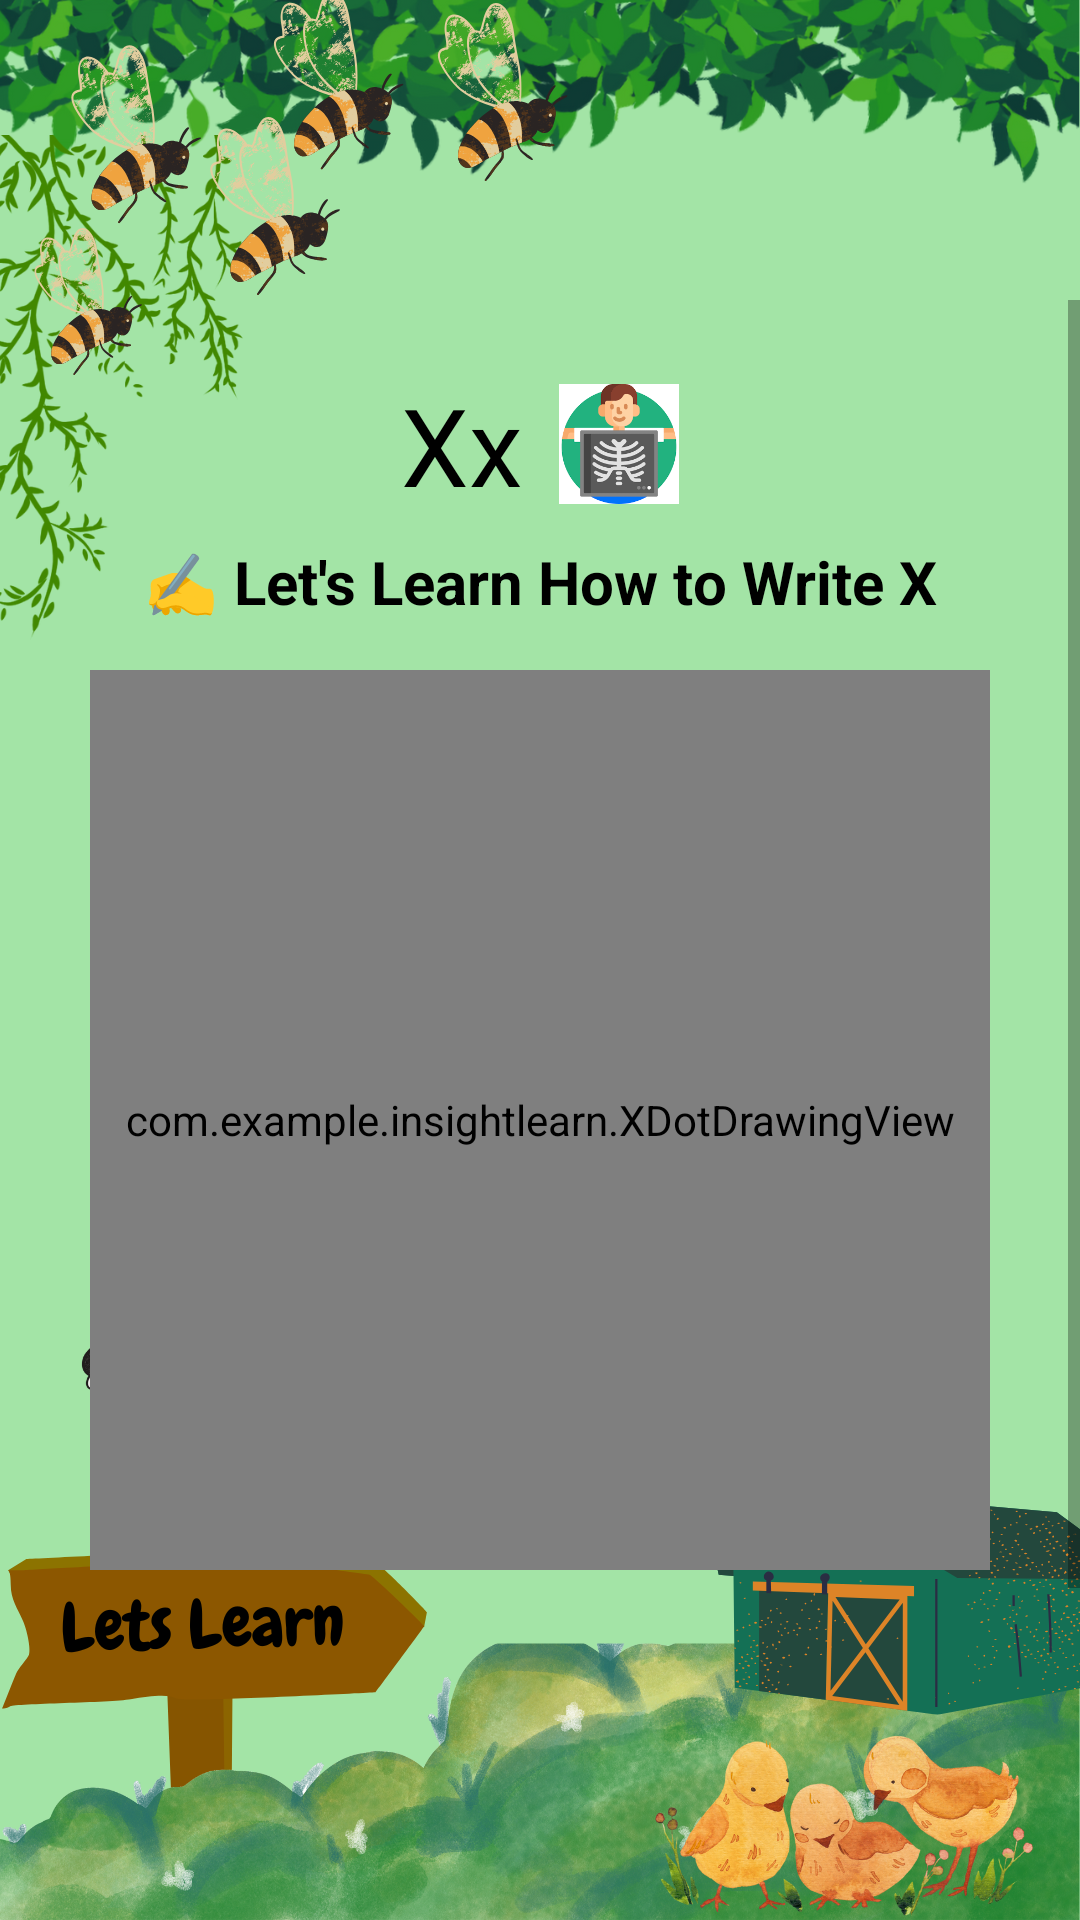

Point at icon controls on the screen. Image size 1080 × 1920, points as (x=x, y=y).
X Ray: (x=619, y=444)
